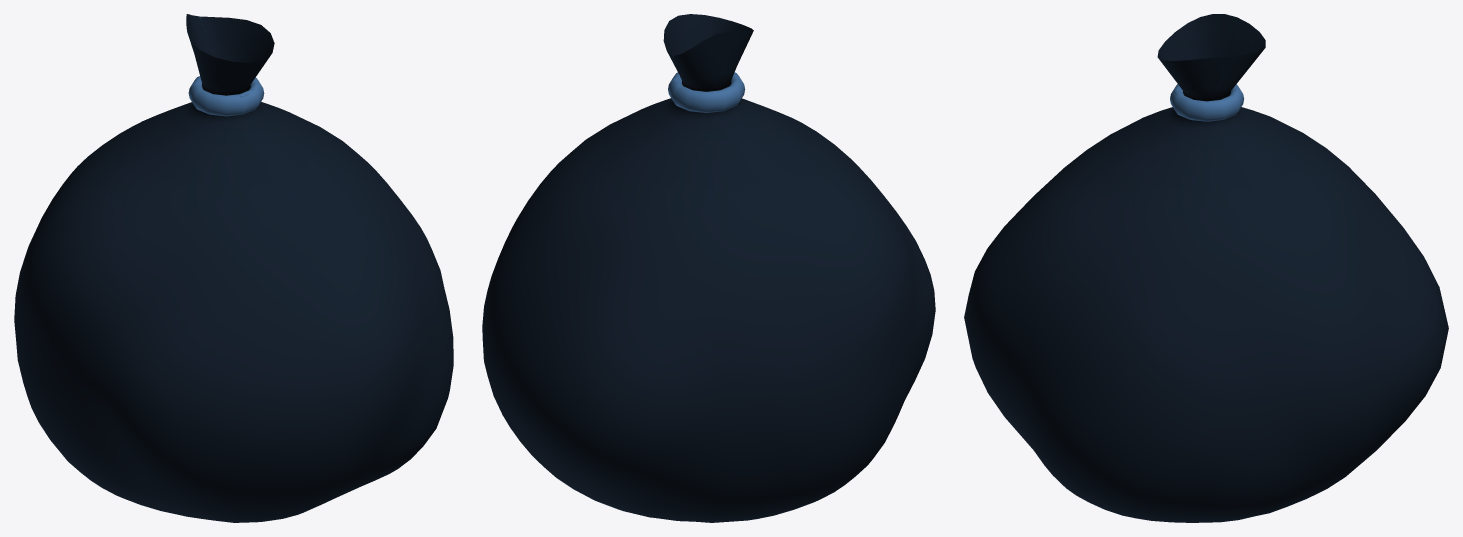
Rendered from GaragePileBag.fbx.
3 renders of one model, left to right at view 1: azimuth 30°, elevation 25°; view 2: azimuth 150°, elevation 25°; view 3: azimuth 270°, elevation 25°, orthographic. The views are drawn at different scales.
Parts seen in each view (by area): view 1: GaragePileBag; view 2: GaragePileBag; view 3: GaragePileBag.
Boxes of the visible parts, x1,y1,x2,y2 form: GaragePileBag: (14, 14, 453, 522); GaragePileBag: (482, 14, 935, 522); GaragePileBag: (964, 14, 1448, 522).
Bounding box in the file's own units: 195 × 226 × 220.
1 material, 1 textured.
